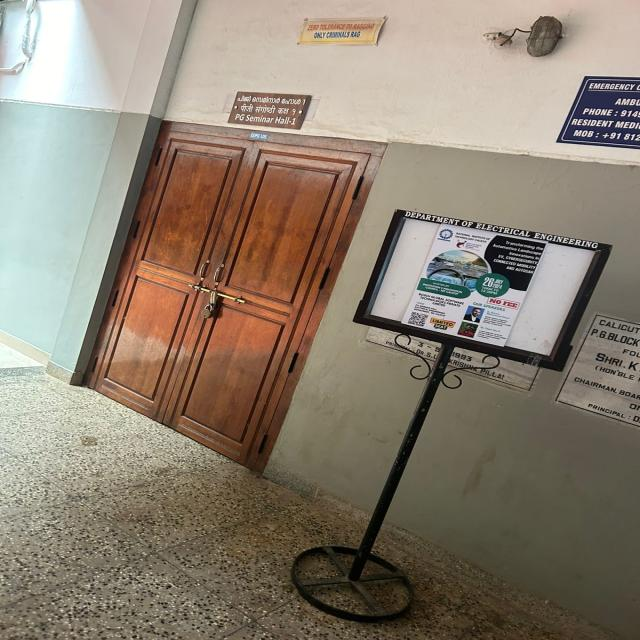barrier ahead at: (364, 205, 608, 382)
